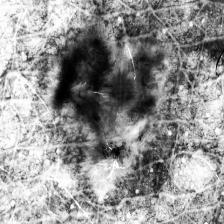Potentially Malignant Skin Tumors: (28, 20, 163, 196)
